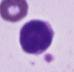L: (18, 18, 56, 55)
